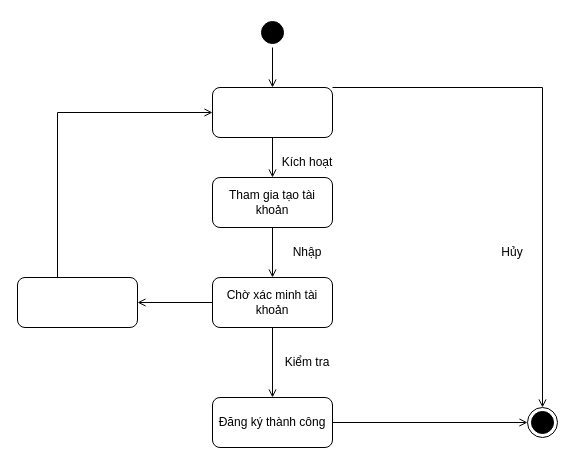
Some shapes in this 575 by 465 pixel diagram are drawn without their labels. Here are the shapes that lost their labels. From the top down, the box of each, then its label:
(212, 86, 332, 138): Chưa có tài khoản
(16, 276, 138, 328): Đăng ký thất bại
